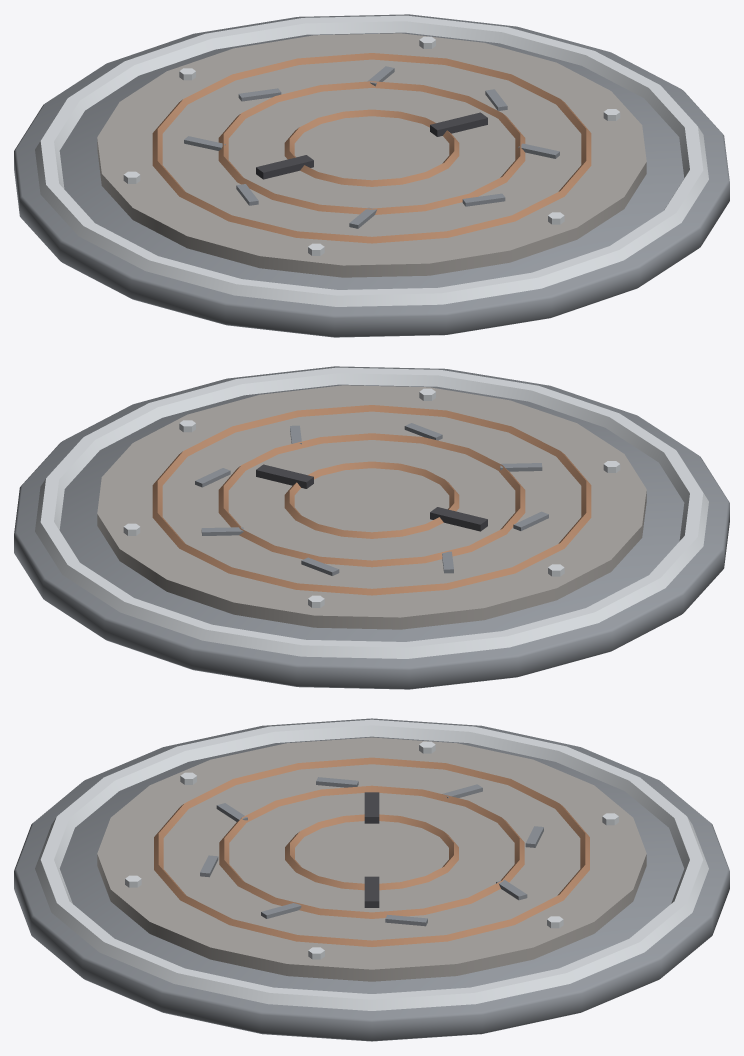
Rendered from Manhole_Ring.fbx.
The picture shows the model from 3 angles, top to bottom: view 1: azimuth 30°, elevation 25°; view 2: azimuth 150°, elevation 25°; view 3: azimuth 270°, elevation 25°; orthographic projection.
Visible parts, largest first — view 1: LOD0; view 2: LOD0; view 3: LOD0.
Part boxes in pixels (x1,y1,x2,y2): LOD0: [14, 14, 729, 337]; LOD0: [14, 366, 729, 689]; LOD0: [14, 718, 729, 1041].
Size of what is drawn, in the model's own units: 86 by 5.9 by 86.
